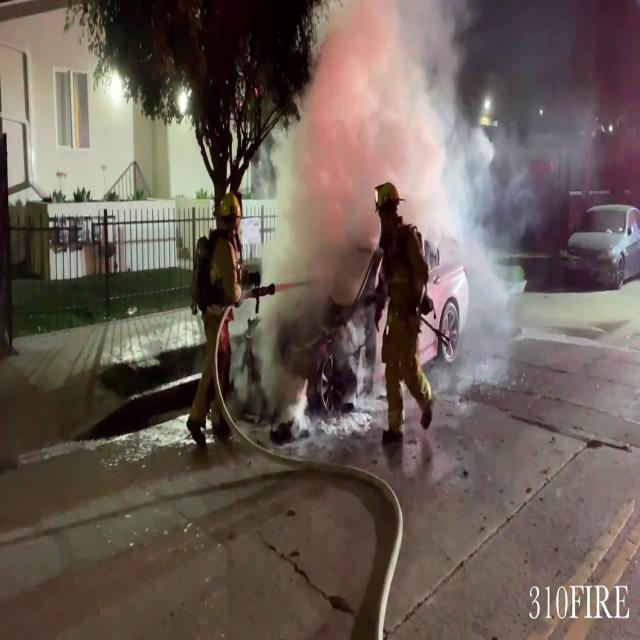Smoke: (252, 0, 486, 417)
